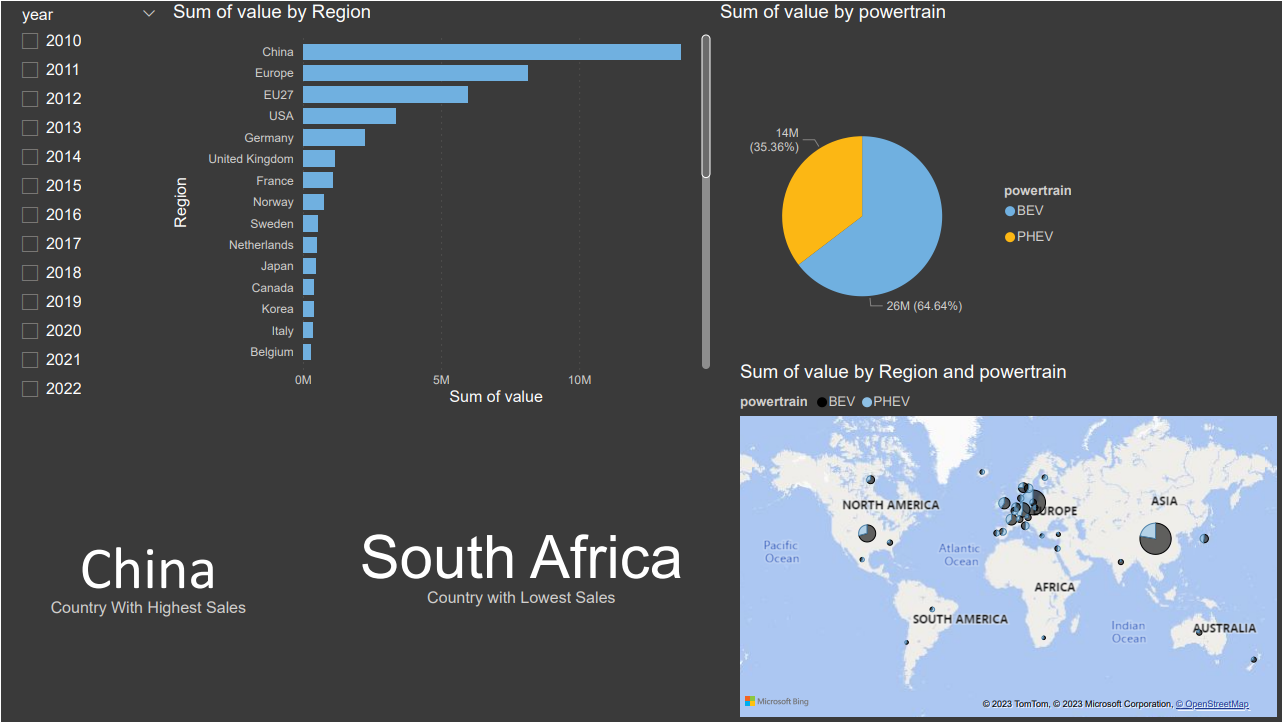

This screenshot's page, from the dashboard's own definition file:
{"tool":"powerbi","page":{"name":"Page 1","canvas":[1280,720],"ordinal":0},"visuals":[{"type":"slicer","fields":{"Values":["IEA-EV-dataEV salesCarsHistoric.year"]},"box":[7.8,0,159.5,409.5],"z":0},{"type":"barChart","fields":{"Category":["IEA-EV-dataEV salesCarsHistoric.region"],"Y":["Sum(IEA-EV-dataEV salesCarsHistoric.value)"]},"box":[167.3,0,546.6,409.5],"z":1000},{"type":"pieChart","fields":{"Category":["IEA-EV-dataEV salesCarsHistoric.powertrain"],"Y":["Sum(IEA-EV-dataEV salesCarsHistoric.value)"]},"box":[713.9,0,379.3,409.5],"z":2000},{"type":"card","fields":{"Values":["Min(IEA-EV-dataEV salesCarsHistoric.region)"]},"box":[7.8,419.2,279.1,300.5],"z":3000},{"type":"map","fields":{"Size":["Sum(IEA-EV-dataEV salesCarsHistoric.value)"],"Category":["IEA-EV-dataEV salesCarsHistoric.Region"],"Series":["IEA-EV-dataEV salesCarsHistoric.powertrain"]},"box":[734.3,359.9,545.7,359.9],"z":4000},{"type":"card","fields":{"Values":["IEA-EV-dataEV salesCarsHistoric.LowestRegion"]},"box":[307.4,409.5,427,300.5],"z":5000}]}

Visuals, with their boxes in screenshot pixels (x1, y1, x2, y2), scaled from the page's 1280x720 canvas onto the 1283x723 screenshot:
slicer - IEA-EV-dataEV salesCarsHistoric.year: locate(8, 0, 168, 411)
barChart - IEA-EV-dataEV salesCarsHistoric.region x Sum(IEA-EV-dataEV salesCarsHistoric.value): locate(168, 0, 716, 411)
pieChart - IEA-EV-dataEV salesCarsHistoric.powertrain x Sum(IEA-EV-dataEV salesCarsHistoric.value): locate(716, 0, 1096, 411)
card - Min(IEA-EV-dataEV salesCarsHistoric.region): locate(8, 421, 288, 722)
map - Sum(IEA-EV-dataEV salesCarsHistoric.value) x IEA-EV-dataEV salesCarsHistoric.Region: locate(736, 361, 1282, 722)
card - IEA-EV-dataEV salesCarsHistoric.LowestRegion: locate(308, 411, 736, 713)
